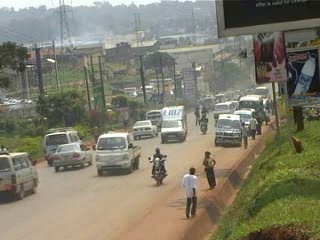Car: (51, 140, 94, 171), (131, 118, 158, 139)
Motorcycle: (147, 154, 168, 185), (200, 119, 207, 134)
